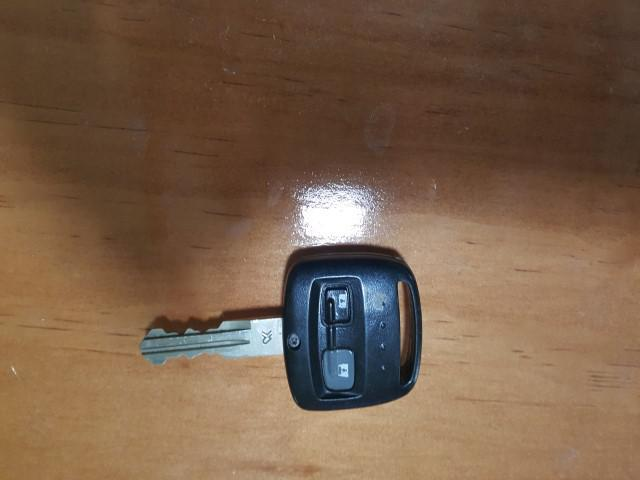key: (138, 249, 428, 428)
